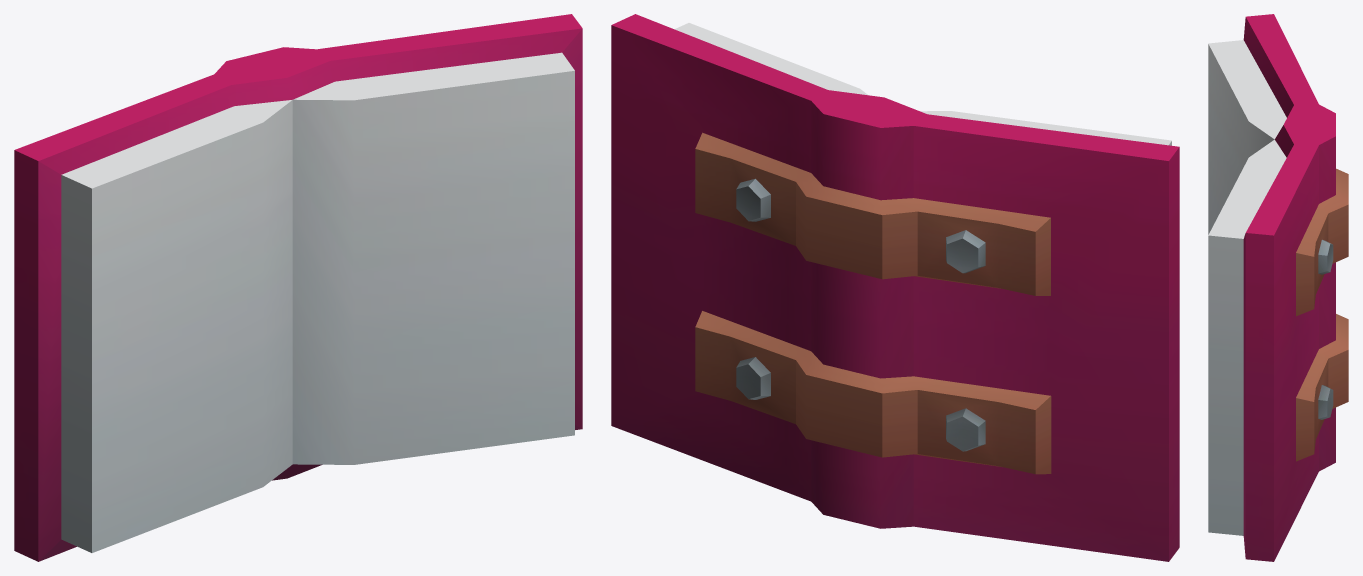
File: spellbook_open.glb
3 views of the same model, side by side, from view 1: azimuth 30°, elevation 25°; view 2: azimuth 150°, elevation 25°; view 3: azimuth 270°, elevation 25° (orthographic). The views are drawn at different scales.
Parts seen in each view (by area): view 1: spellbook_open; view 2: spellbook_open; view 3: spellbook_open.
Boxes of the visible parts, x1=… form: spellbook_open: x1=14, y1=14, x2=582, y2=561; spellbook_open: x1=611, y1=14, x2=1179, y2=561; spellbook_open: x1=1208, y1=14, x2=1348, y2=561.
Size of the model in its own units: 0.8282 by 0.5688 by 0.2219.
1 material, 1 textured.
